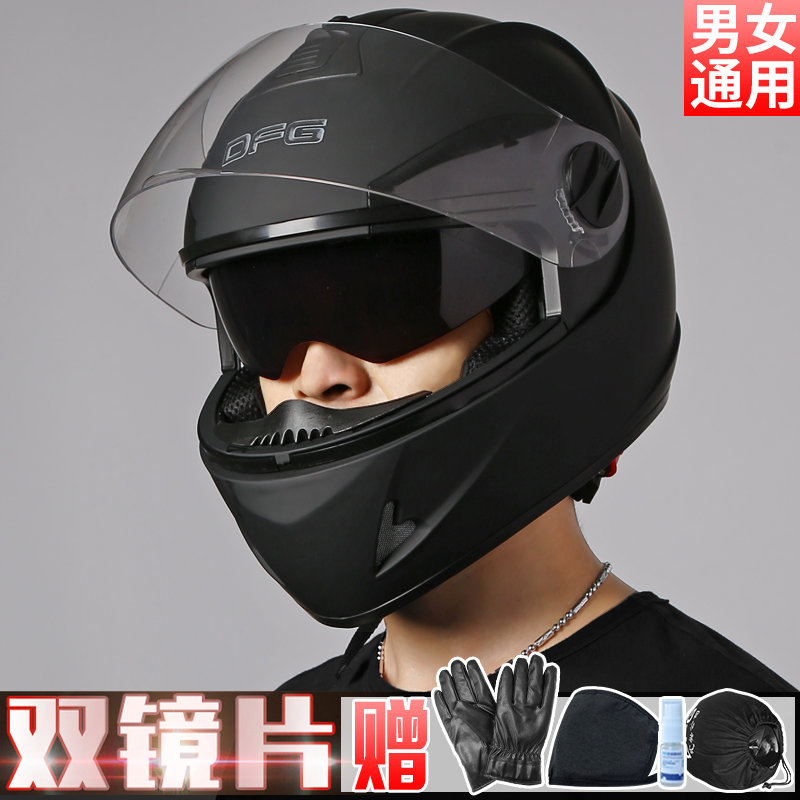helmet: (138, 44, 709, 559)
